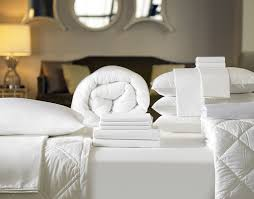bed-matress: (1, 120, 254, 199)
